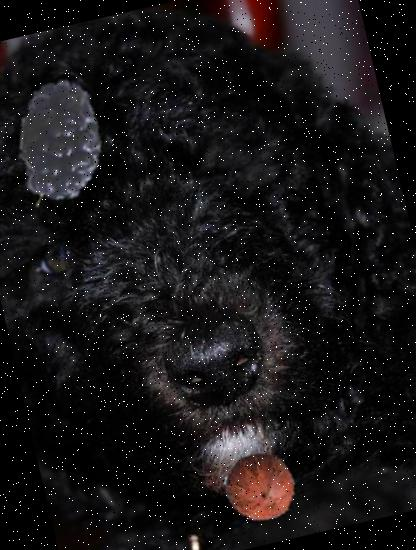Cocos: (216, 441, 306, 531)
Mulberry: (0, 62, 154, 224)
